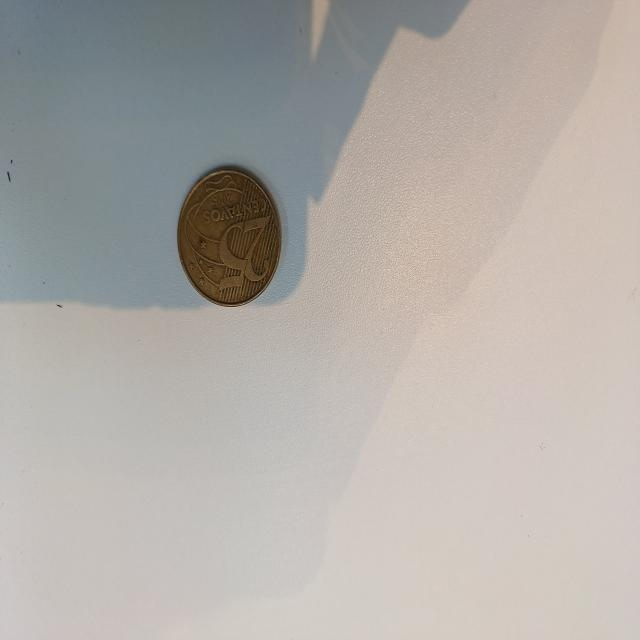25 cents: (175, 159, 289, 314)
